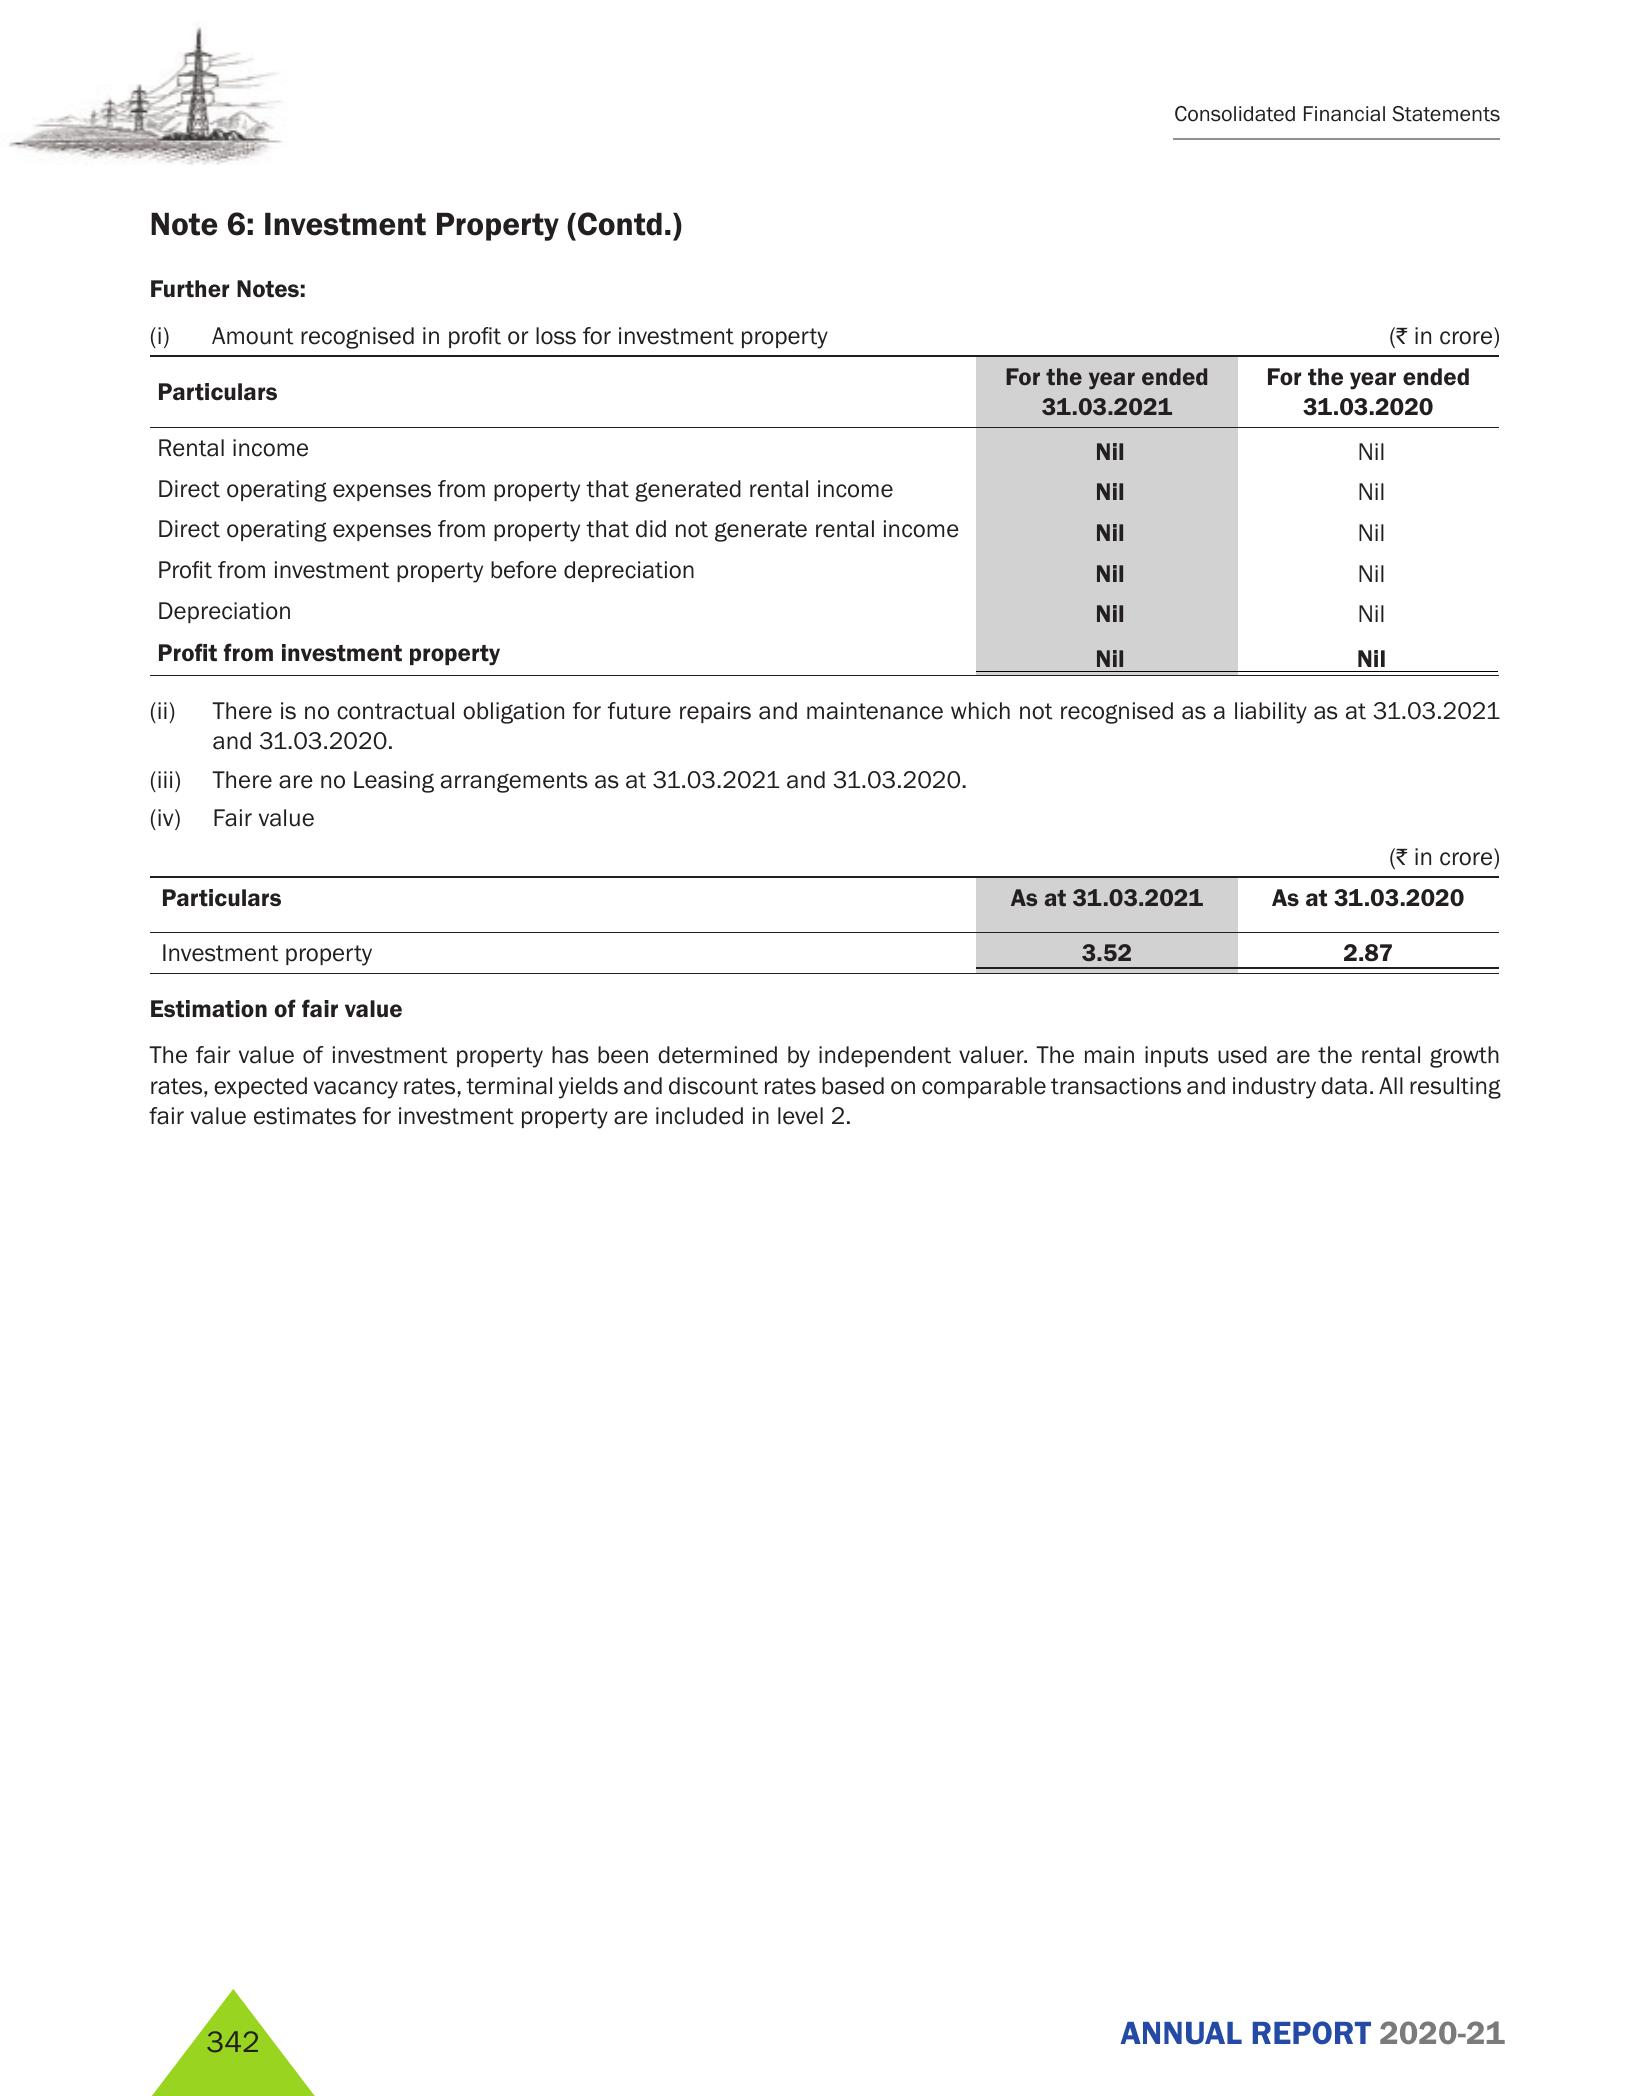Footer: (3, 1968, 1650, 2096)
Header: (0, 0, 1650, 189)
Table: (143, 356, 1504, 686), (126, 866, 1521, 977)
